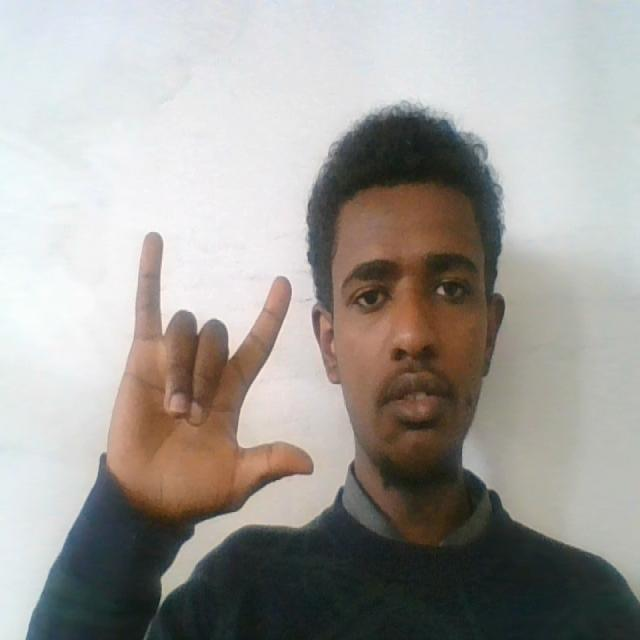iloveyou: (102, 222, 327, 513)
